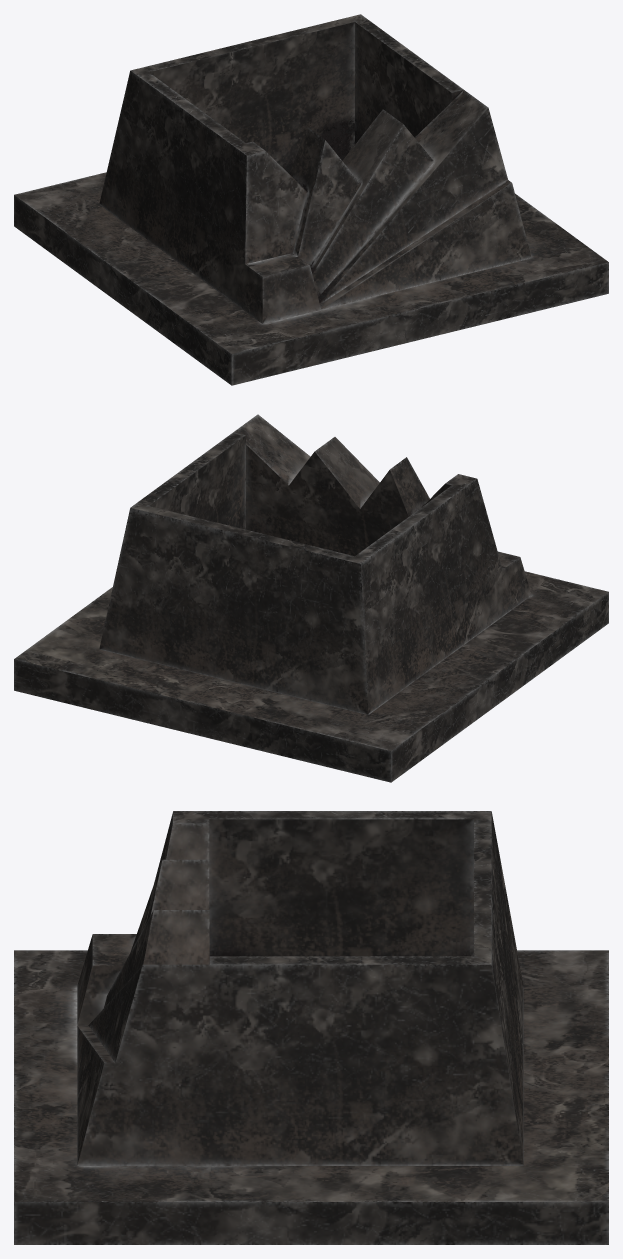
File: Ashtray.glb
The picture shows the model from 3 angles, top to bottom: view 1: azimuth 30°, elevation 25°; view 2: azimuth 150°, elevation 25°; view 3: azimuth 270°, elevation 25°; orthographic projection. The views are drawn at different scales.
Visible parts, largest first — view 1: Ashtray; view 2: Ashtray; view 3: Ashtray.
Boxes of the visible parts, <box> form: Ashtray: <box>14,14,608,385</box>; Ashtray: <box>14,414,608,782</box>; Ashtray: <box>14,811,608,1244</box>.
Size of the model in its own units: 0.1255 by 0.0541 by 0.1255.
Materials: 1 (1 with a texture image).
